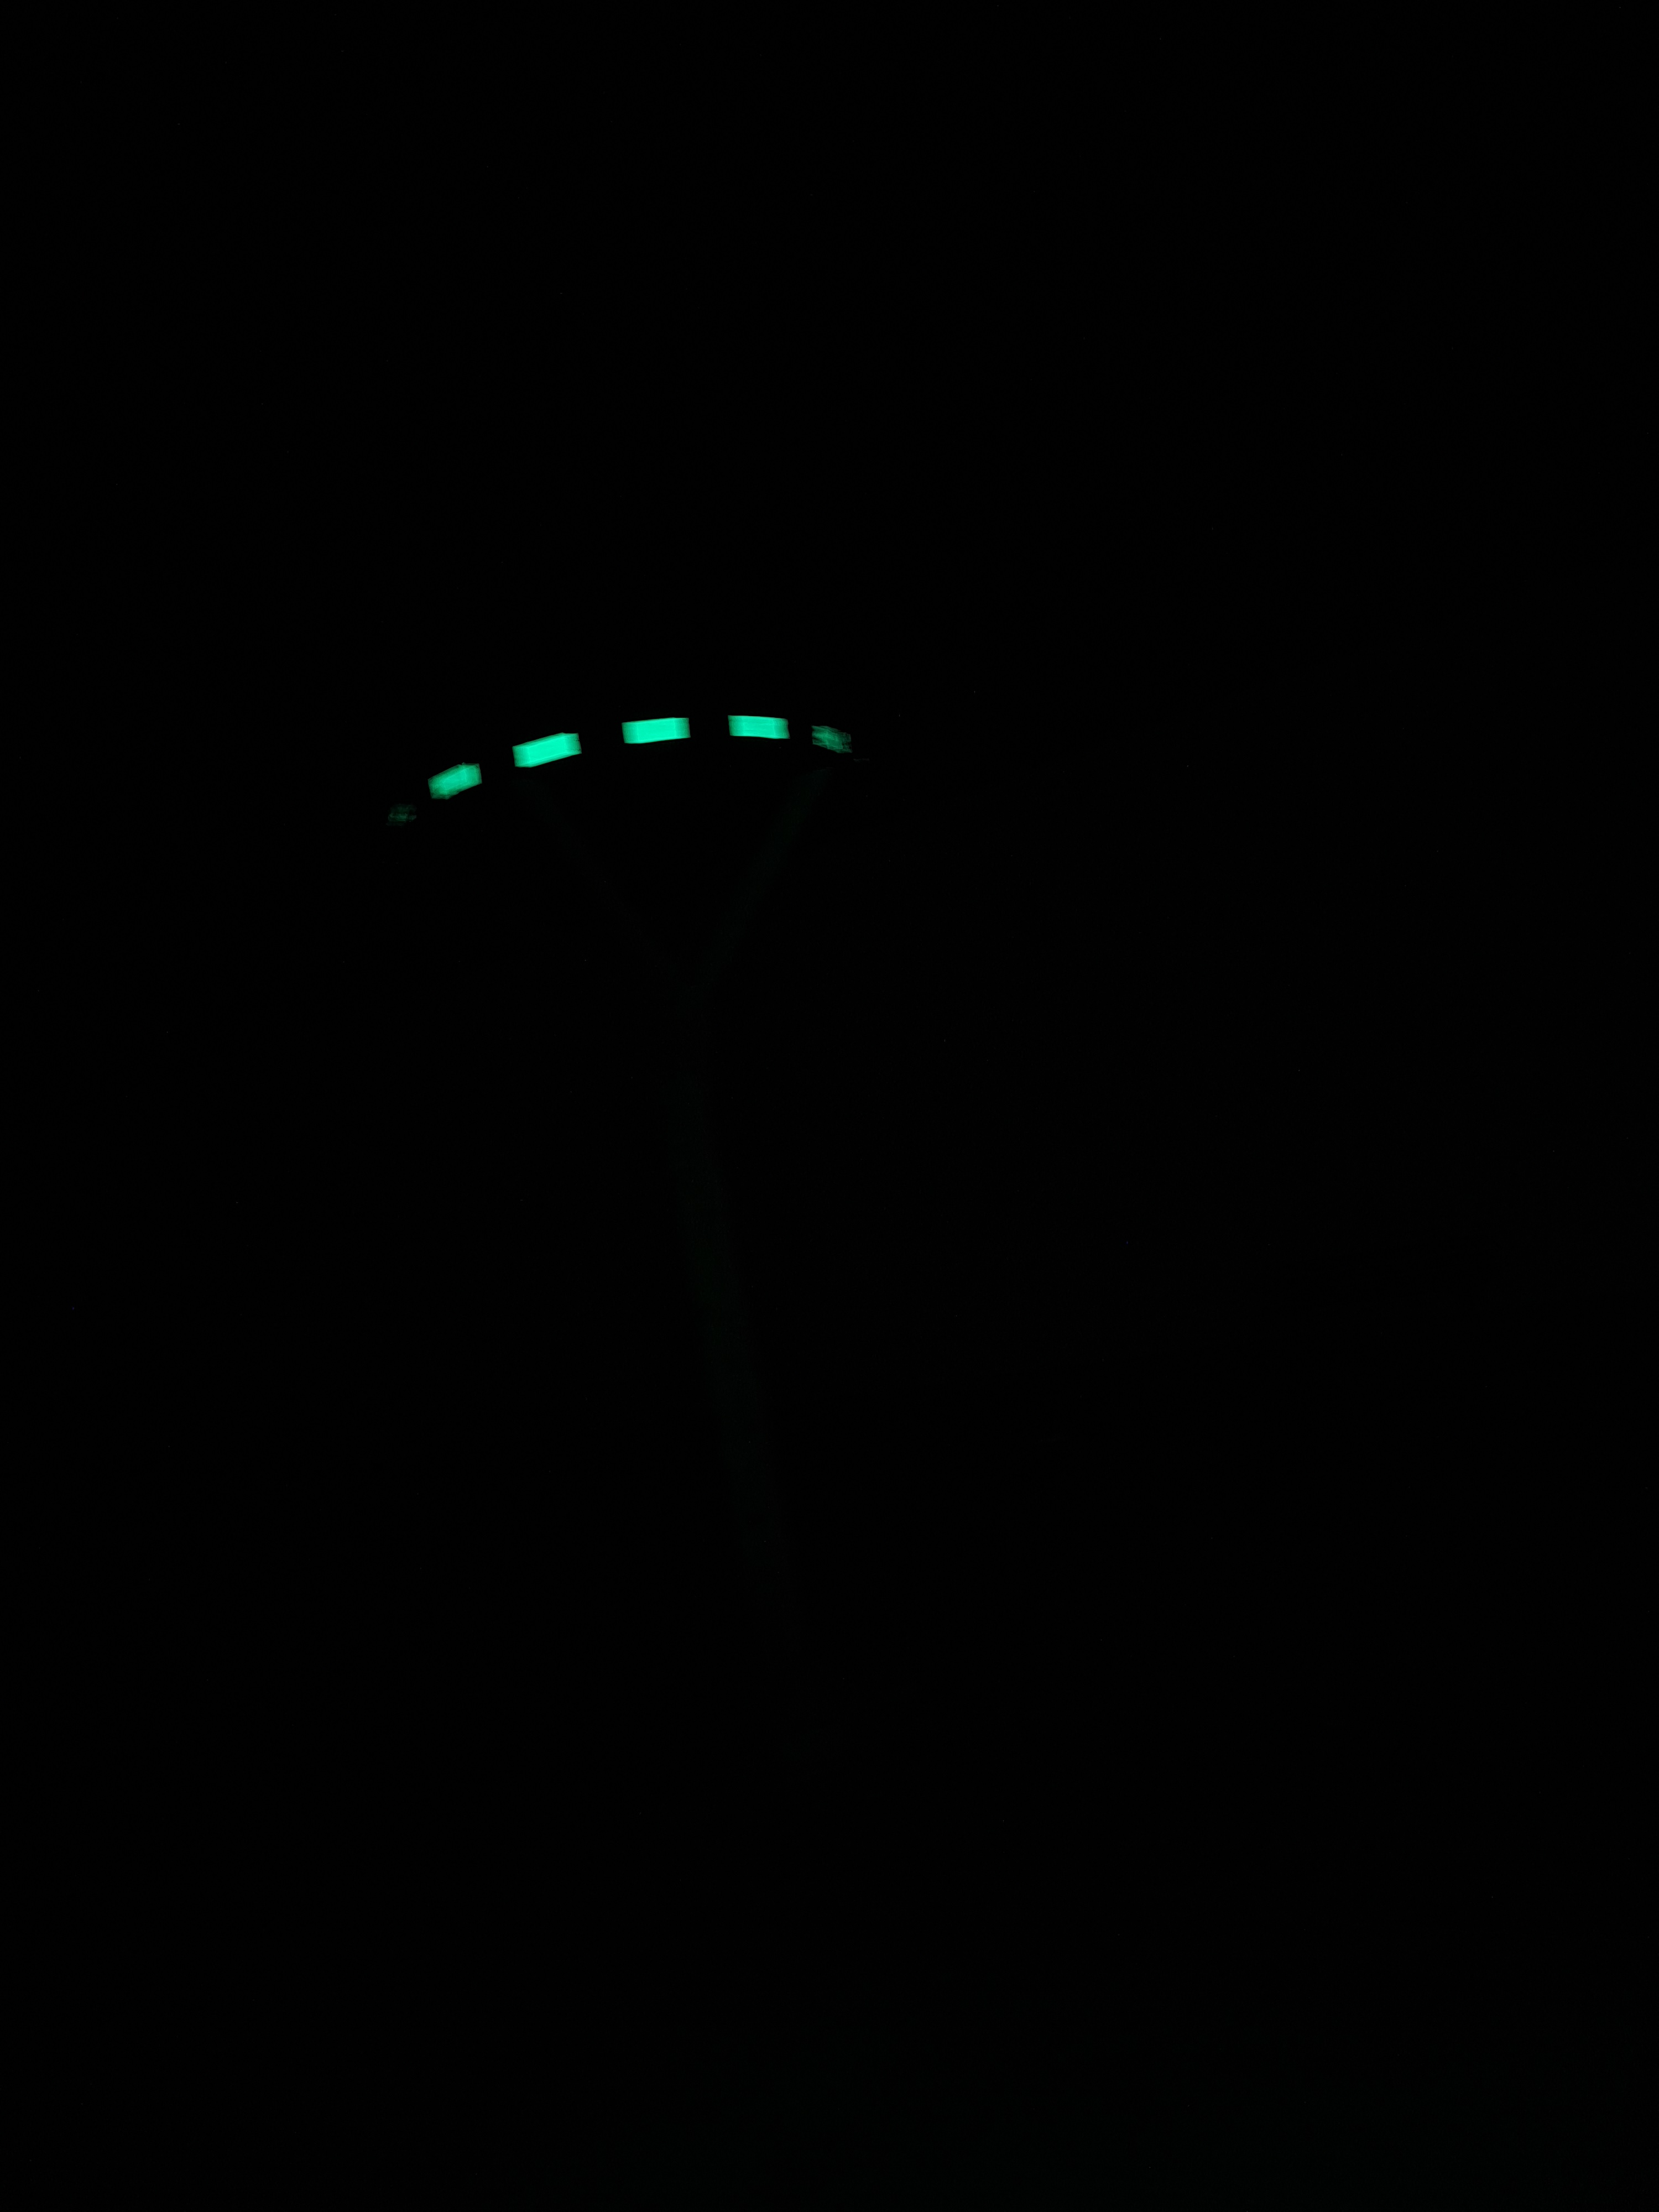hoop: (423, 711, 861, 806)
